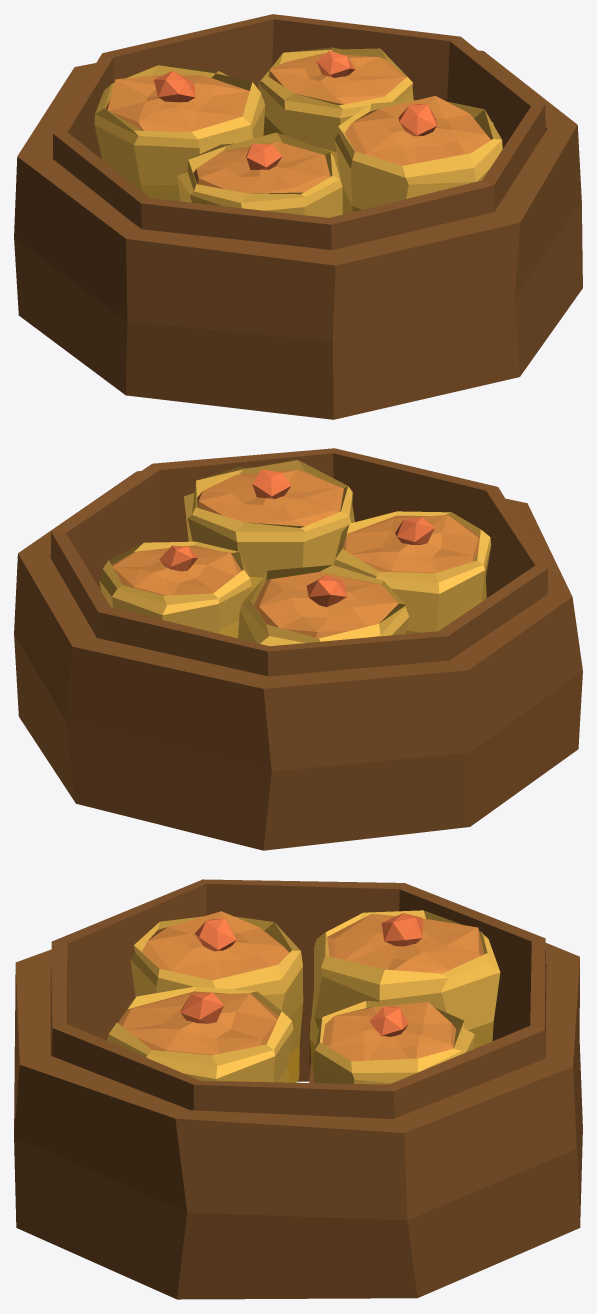
Rendered from Shumai.fbx.
3 renders of one model, top to bottom at view 1: azimuth 30°, elevation 25°; view 2: azimuth 150°, elevation 25°; view 3: azimuth 270°, elevation 25°, orthographic. The views are drawn at different scales.
Parts seen in each view (by area): view 1: Cylinder.007; view 2: Cylinder.007; view 3: Cylinder.007.
Part boxes in pixels (bbox=[...]): Cylinder.007: bbox=[14, 14, 582, 419]; Cylinder.007: bbox=[14, 448, 582, 850]; Cylinder.007: bbox=[14, 879, 582, 1299].
Size of the model in its own units: 192 by 83.48 by 190.
